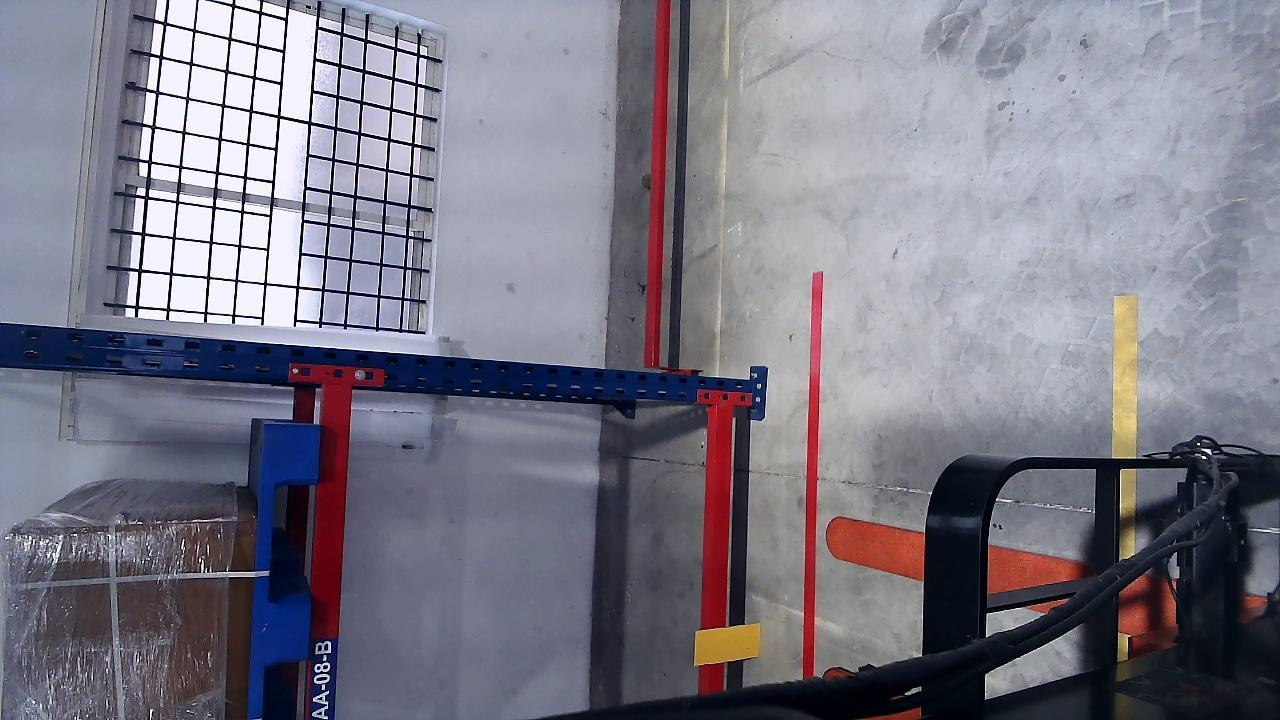red_line: (809, 274, 816, 676)
yellow_line: (1111, 293, 1140, 565)
